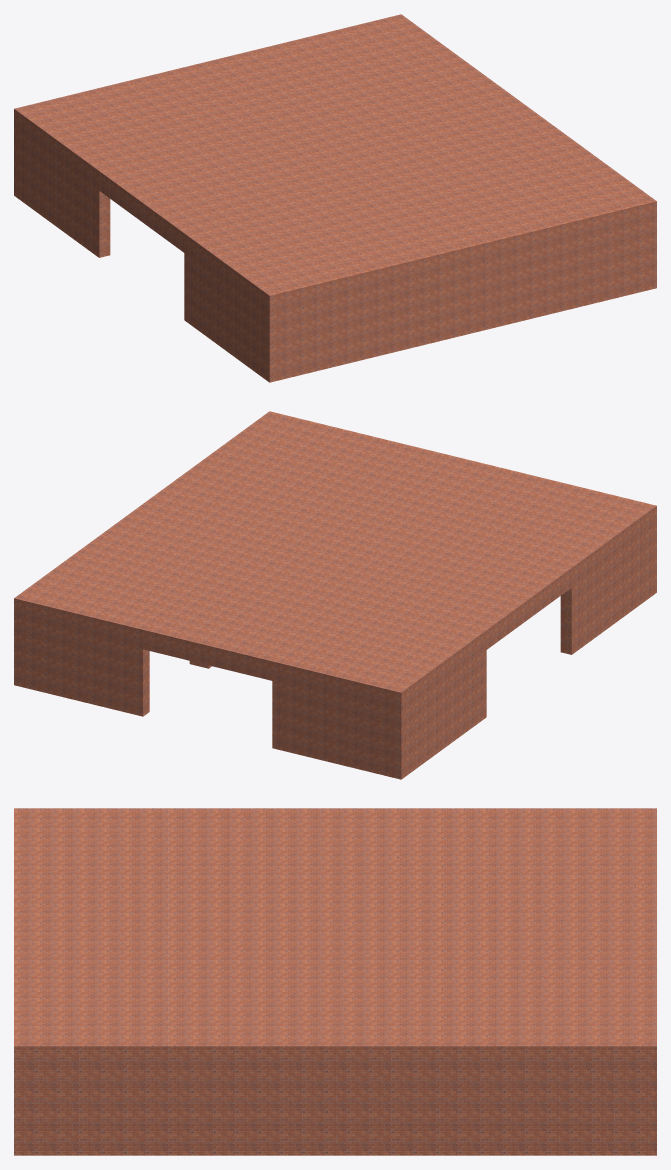
File: OrangeGarage-col.GLB
3 renders of one model, top to bottom at view 1: azimuth 30°, elevation 25°; view 2: azimuth 150°, elevation 25°; view 3: azimuth 270°, elevation 25°, orthographic. The views are drawn at different scales.
Parts seen in each view (by area): view 1: OrangeGarage-col; view 2: OrangeGarage-col; view 3: OrangeGarage-col.
Boxes of the visible parts, x1,y1,x2,y2 form: OrangeGarage-col: [14, 14, 656, 382]; OrangeGarage-col: [14, 411, 656, 779]; OrangeGarage-col: [14, 808, 656, 1155].
Size of the model in its own units: 14 by 3 by 16.
Materials: 1 (1 with a texture image).
